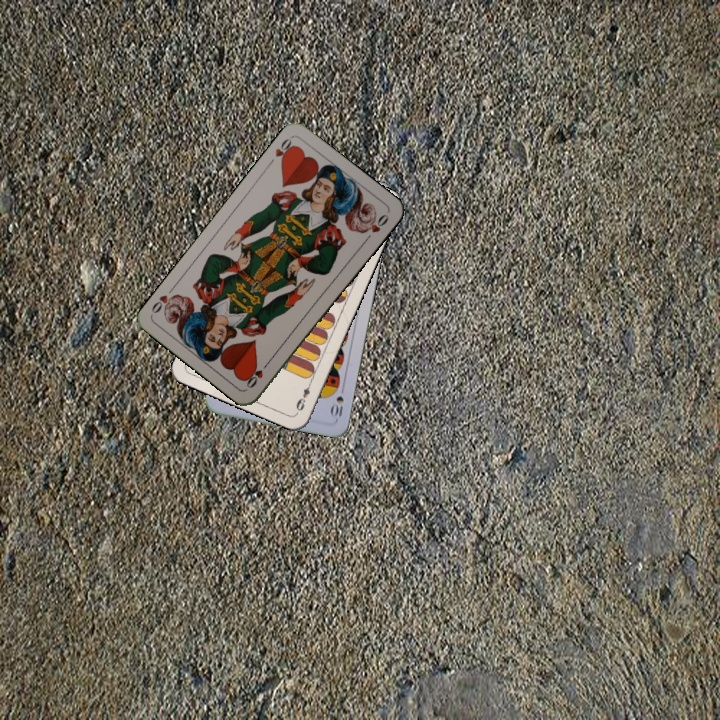E9: (292, 377, 315, 415)
HO: (264, 134, 298, 168), (242, 357, 273, 391)
S10: (328, 382, 347, 422)
